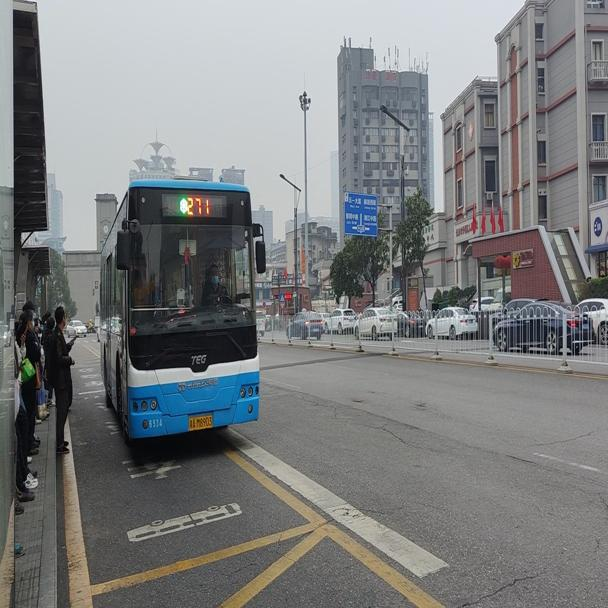bus: (97, 175, 266, 445)
screen: (187, 190, 210, 216)
